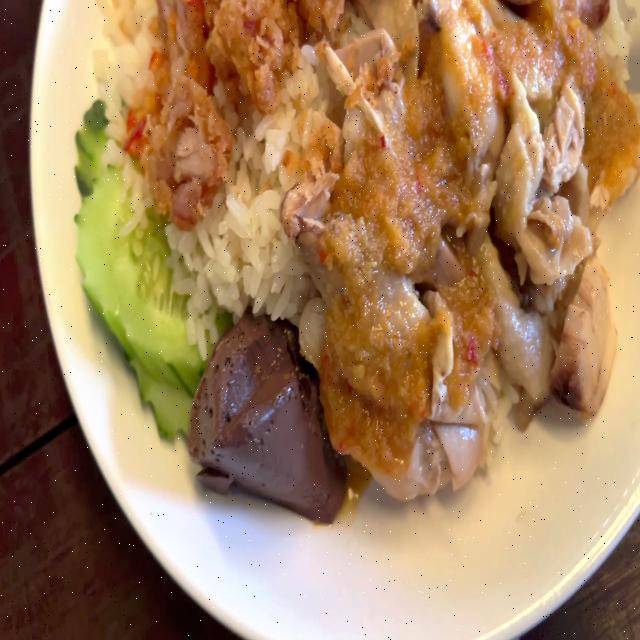boiled_chicken: (313, 0, 631, 462)
boiled_chicken_blood_jelly: (192, 318, 343, 518)
chicken_rice: (79, 0, 640, 505)
cucumber: (73, 86, 214, 442)
fried_chicken: (129, 0, 325, 207)
